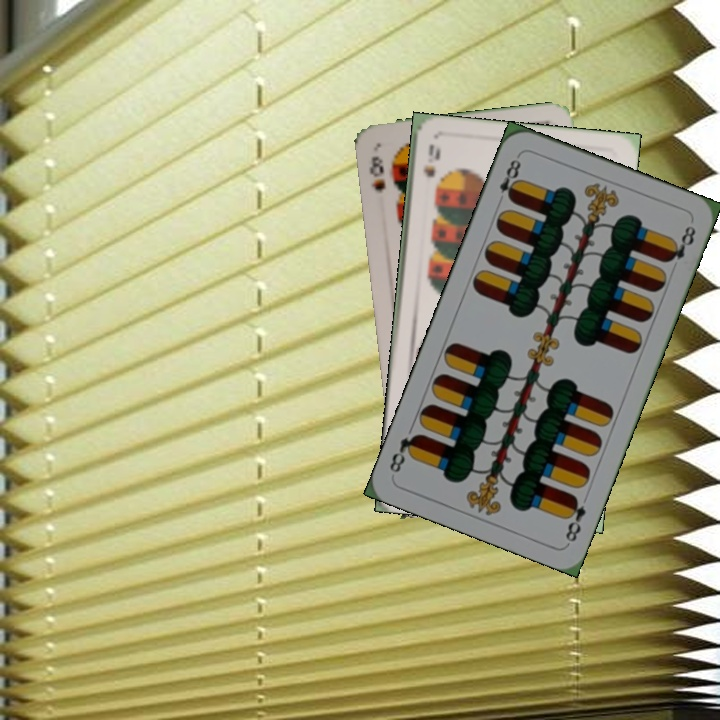E8: (493, 151, 524, 208), (561, 491, 589, 546)
S8: (365, 152, 388, 195)
S9: (420, 140, 443, 180)
